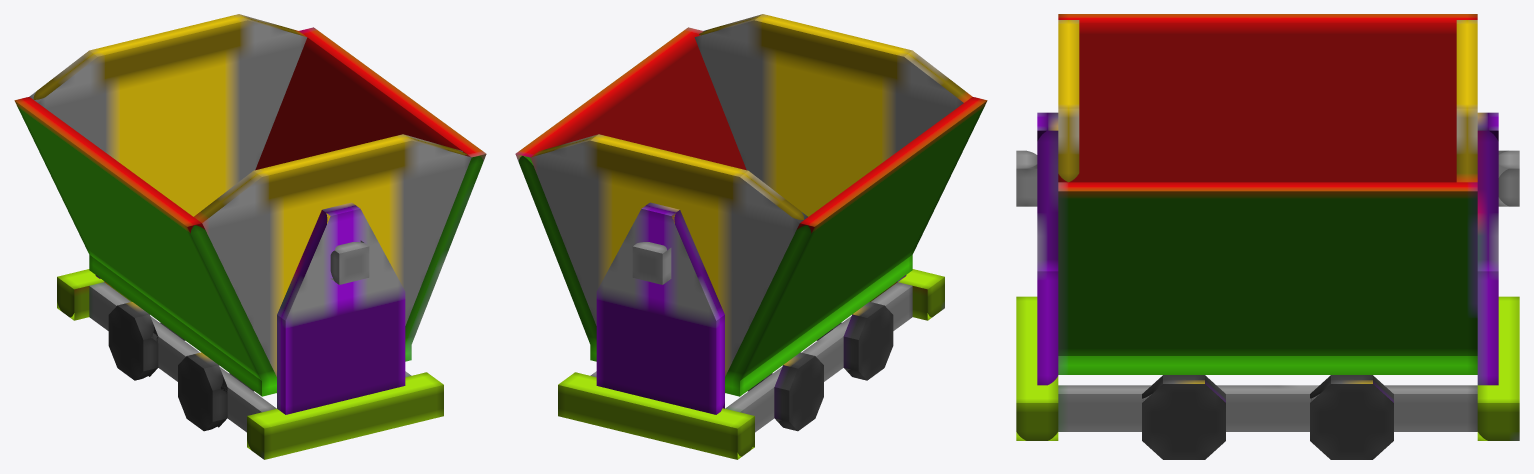
Rendered from cart.obj.
3 renders of one model, left to right at view 1: azimuth 30°, elevation 25°; view 2: azimuth 150°, elevation 25°; view 3: azimuth 270°, elevation 25°, orthographic. The views are drawn at different scales.
Visible parts, largest first — view 1: Bucket, Carriage; view 2: Bucket, Carriage; view 3: Bucket, Carriage.
Boxes of the visible parts, x1,y1,x2,y2 form: Bucket: (14,14,486,396); Carriage: (57,202,443,459); Bucket: (515,14,987,396); Carriage: (558,202,944,459); Bucket: (1016,14,1519,374); Carriage: (1016,112,1519,459).
Bounding box in the file's own units: 1.25 × 1.13 × 1.5.
